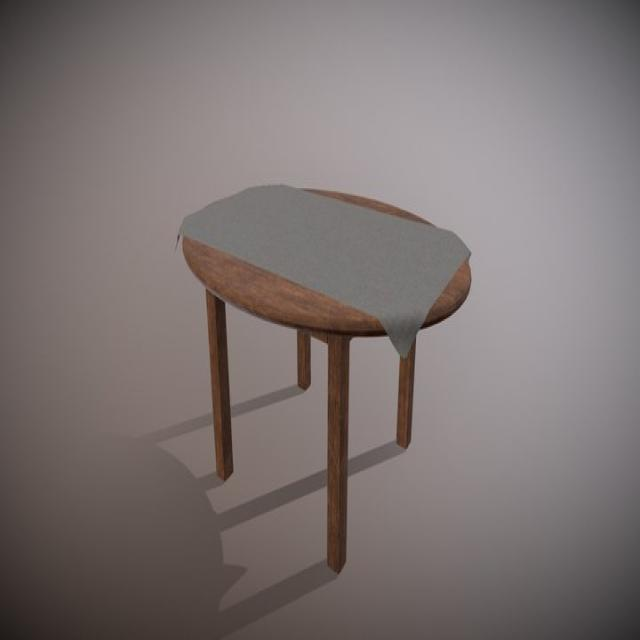table: (182, 180, 473, 571)
